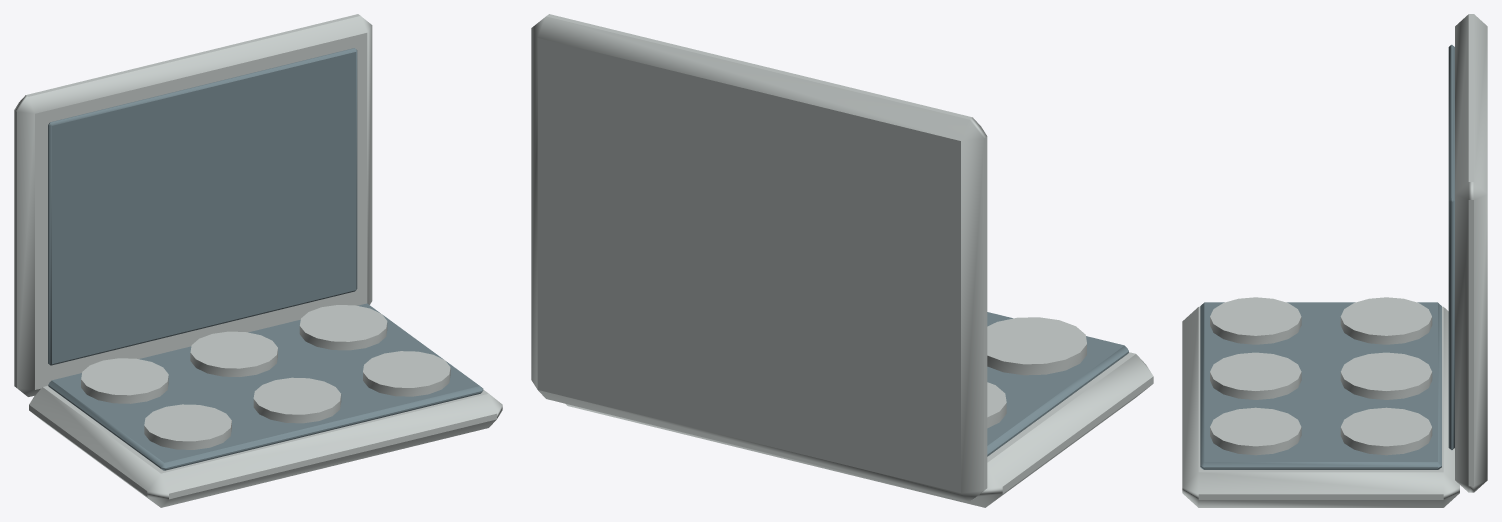
Rendered from makeup-palette.glb.
3 renders of one model, left to right at view 1: azimuth 30°, elevation 25°; view 2: azimuth 150°, elevation 25°; view 3: azimuth 270°, elevation 25°, orthographic. The views are drawn at different scales.
Visible parts, largest first — view 1: mirror, open_lid, tray, palette_base, powder_pan.003, powder_pan.004, powder_pan, powder_pan.005, powder_pan.001, powder_pan.002; view 2: open_lid, palette_base, tray, powder_pan.001, powder_pan; view 3: tray, open_lid, palette_base, powder_pan, powder_pan.002, powder_pan.001, powder_pan.005, powder_pan.004, powder_pan.003, mirror.
Part boxes in pixels (x1,y1,x2,y2): mirror: [48, 48, 357, 365]; open_lid: [14, 14, 372, 396]; tray: [48, 303, 483, 470]; palette_base: [29, 386, 502, 507]; powder_pan.003: [253, 377, 341, 423]; powder_pan.004: [299, 305, 387, 350]; powder_pan: [81, 358, 168, 403]; powder_pan.005: [363, 351, 450, 396]; powder_pan.001: [144, 404, 231, 449]; powder_pan.002: [190, 331, 277, 376]; open_lid: [531, 14, 987, 502]; palette_base: [566, 352, 1153, 507]; tray: [987, 312, 1128, 456]; powder_pan.001: [987, 317, 1086, 375]; powder_pan: [987, 382, 1006, 428]; tray: [1200, 302, 1441, 469]; open_lid: [1455, 14, 1487, 492]; palette_base: [1182, 306, 1459, 507]; powder_pan: [1340, 297, 1432, 344]; powder_pan.002: [1340, 352, 1432, 399]; powder_pan.001: [1210, 297, 1301, 344]; powder_pan.005: [1210, 407, 1301, 455]; powder_pan.004: [1340, 407, 1432, 455]; powder_pan.003: [1210, 352, 1301, 399]; mirror: [1448, 44, 1454, 450].
Bounding box in the file's own units: 0.13 × 0.1105 × 0.0935.
